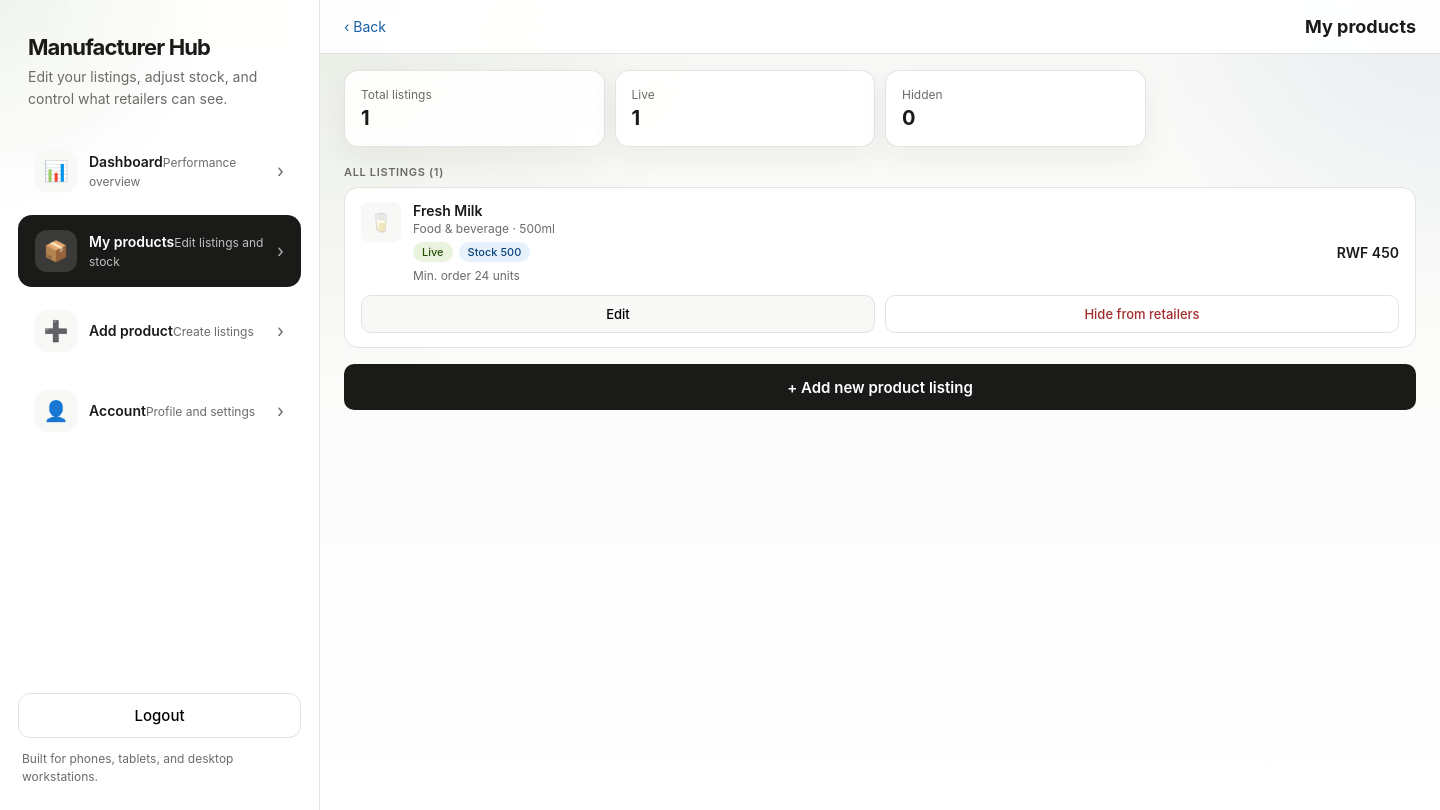
Test: availability › hides a live product rather than destroying it
The image size is (1440, 810).
Expected: the text "Fresh Milk" is shown, top-left (413, 202), bottom-right (482, 219)
Step 1. Click the button "Hide from retailers" → click(1142, 314), box top-left (885, 295), bottom-right (1399, 333)
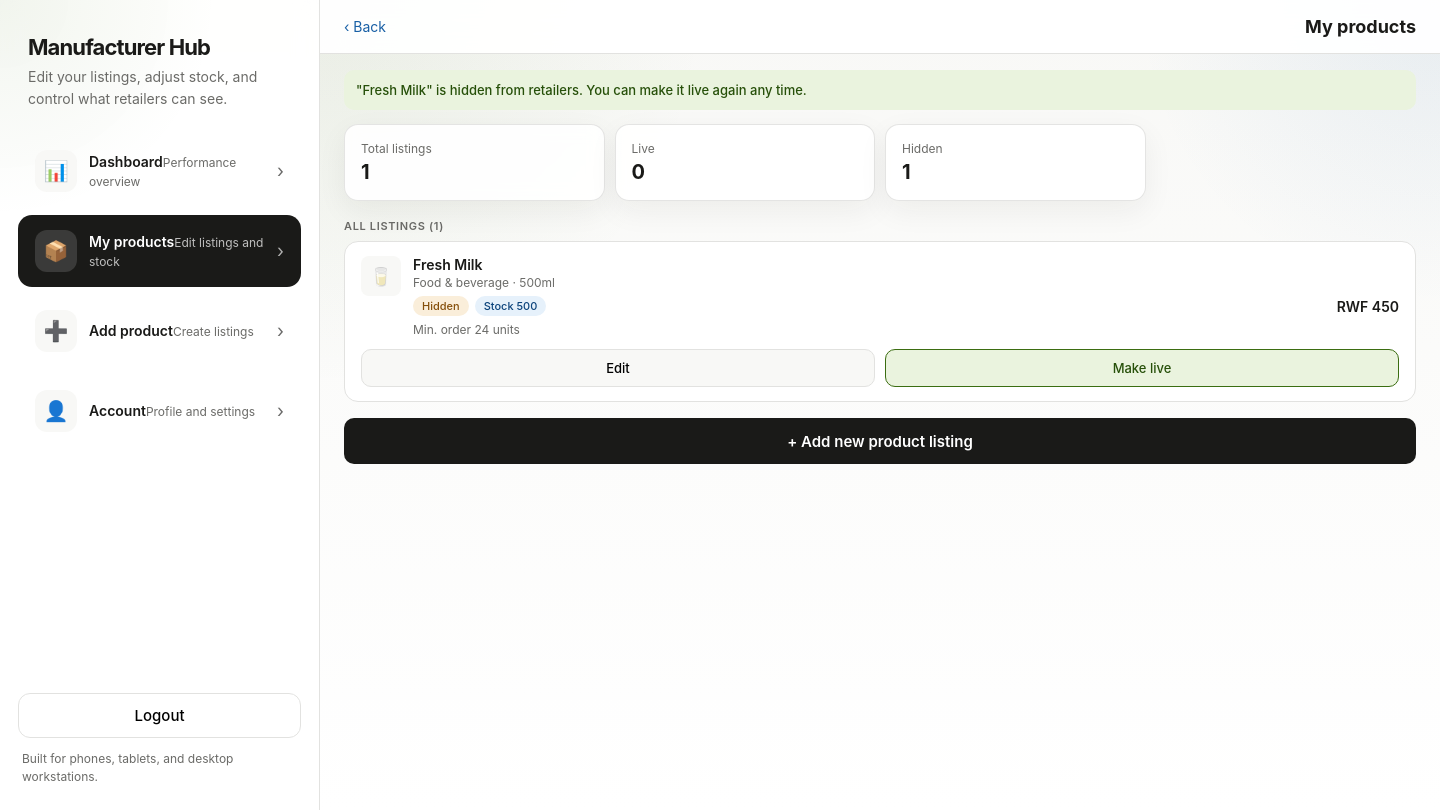
Expected: the text "is hidden from retailers" is shown, top-left (356, 82), bottom-right (807, 98)
Expected: the text "Hidden" in the row of "RWF" is shown, top-left (422, 299), bottom-right (460, 313)
Expected: the button "Make live" is shown, top-left (885, 349), bottom-right (1399, 387)
